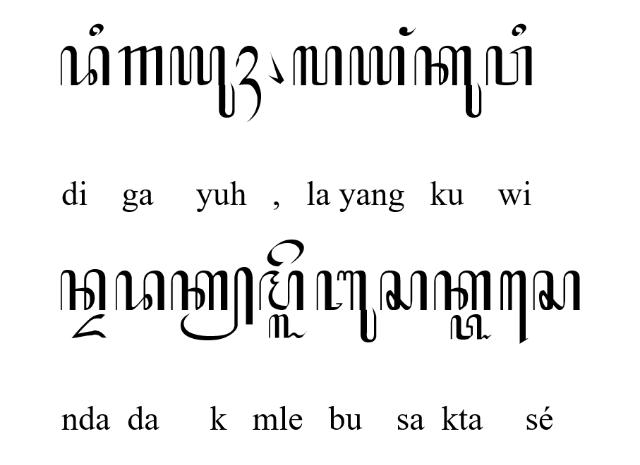-k: (170, 266, 254, 342)
_d: (72, 314, 106, 340)
_h1: (234, 44, 262, 122)
_k: (267, 314, 307, 340)
_t: (450, 315, 492, 341)
bu: (316, 270, 376, 344)
d: (116, 270, 164, 312), (60, 46, 110, 86)
e: (266, 239, 304, 267)
e1: (499, 270, 528, 346)
g: (118, 46, 164, 86)
i: (88, 22, 104, 36), (512, 24, 526, 36)
k: (433, 271, 491, 311)
kom: (268, 52, 284, 84)
ku: (414, 45, 482, 118)
l: (292, 44, 342, 85)
m: (258, 270, 304, 310)
n: (60, 270, 106, 312)
ng: (399, 26, 416, 36)
s: (380, 270, 428, 312), (533, 271, 581, 311)
w: (486, 46, 532, 86)
y: (349, 46, 405, 86)
yu: (169, 46, 235, 118)
